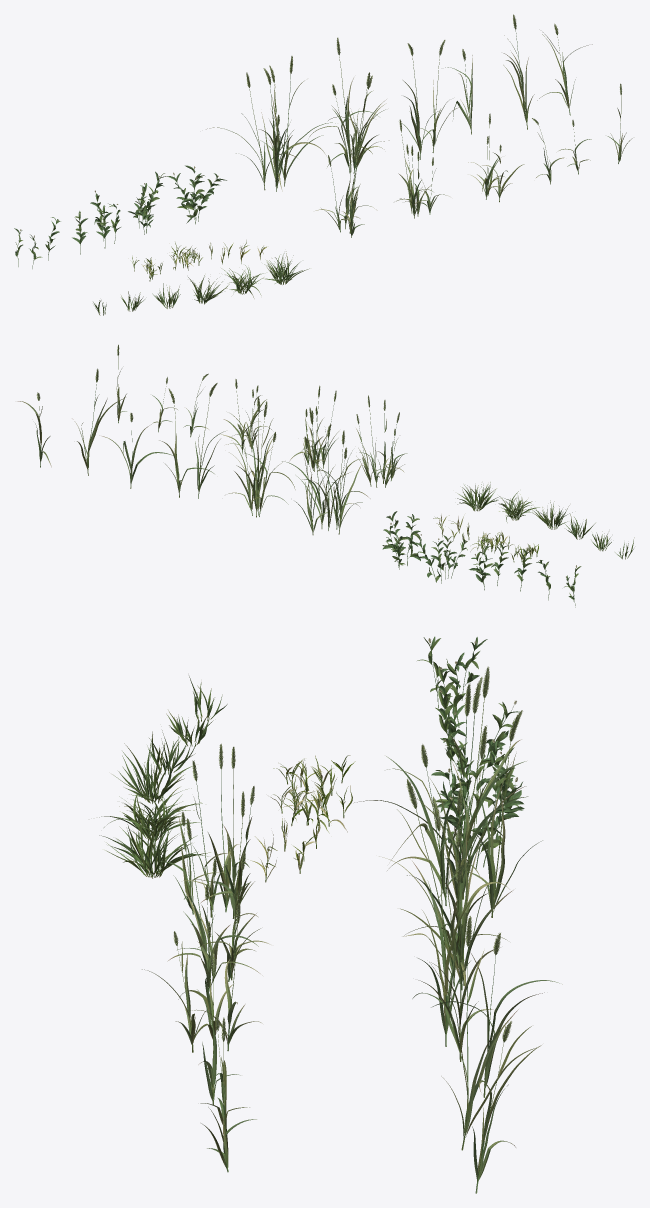
The model's file is Grasses_weeds.FBX.
The picture shows the model from 3 angles, top to bottom: view 1: azimuth 30°, elevation 25°; view 2: azimuth 150°, elevation 25°; view 3: azimuth 270°, elevation 25°; orthographic projection. The views are drawn at different scales.
Visible parts, largest first — view 1: Tymothy_grass001, Tymothy_grass, Tymothy_grass003, Weed_grass_04, Tymothy_grass004, Tymothy_grass002, Weed_grass_02, Tymothy_grass005, Tymothy_grass007, Simple_grass_00, Weed_grass_01, Tymothy_grass006 (+2 smaller); view 2: Tymothy_grass001, Tymothy_grass, Tymothy_grass003, Tymothy_grass002, Tymothy_grass004, Weed_grass_02, Weed_grass_04, Tymothy_grass005, Simple_grass_00, Weed_grass_01, Tymothy_grass007, Simple_grass_01 (+2 smaller); view 3: Tymothy_grass001, Tymothy_grass, Tymothy_grass003, Tymothy_grass002, Tymothy_grass004, Tymothy_grass005, Simple_grass_00, Weed_grass_04, Weed_grass_02, Tymothy_grass007, Simple_grass_01, Tymothy_grass008 (+4 smaller).
Boxes of the visible parts, x1,y1,x2,y2 form: Tymothy_grass001: [206, 56, 335, 191]; Tymothy_grass: [309, 37, 389, 173]; Tymothy_grass003: [315, 133, 377, 237]; Weed_grass_04: [167, 165, 226, 224]; Tymothy_grass004: [396, 119, 449, 218]; Tymothy_grass002: [401, 40, 458, 159]; Weed_grass_02: [128, 171, 167, 234]; Tymothy_grass005: [468, 113, 524, 202]; Tymothy_grass007: [503, 14, 534, 129]; Simple_grass_00: [262, 251, 309, 284]; Weed_grass_01: [90, 190, 120, 248]; Tymothy_grass006: [445, 49, 472, 134]; Tymothy_grass001: [282, 407, 370, 535]; Tymothy_grass: [226, 396, 295, 517]; Tymothy_grass003: [356, 395, 407, 487]; Tymothy_grass002: [159, 383, 225, 498]; Tymothy_grass004: [289, 385, 338, 471]; Weed_grass_02: [413, 533, 467, 583]; Weed_grass_04: [382, 511, 420, 569]; Tymothy_grass005: [221, 379, 271, 453]; Simple_grass_00: [457, 482, 499, 511]; Weed_grass_01: [469, 542, 508, 590]; Tymothy_grass007: [72, 368, 125, 475]; Simple_grass_01: [498, 491, 542, 522]; Tymothy_grass001: [354, 666, 542, 917]; Tymothy_grass: [379, 725, 513, 999]; Tymothy_grass003: [155, 743, 254, 923]; Tymothy_grass002: [412, 796, 500, 1061]; Tymothy_grass004: [167, 791, 270, 991]; Tymothy_grass005: [142, 903, 262, 1052]; Simple_grass_00: [99, 807, 210, 878]; Weed_grass_04: [431, 768, 523, 869]; Weed_grass_02: [443, 730, 524, 826]; Tymothy_grass007: [429, 916, 536, 1150]; Simple_grass_01: [99, 787, 202, 840]; Tymothy_grass008: [472, 1021, 541, 1193].
Bounding box in the file's own units: 246 × 59.74 × 91.26.
Materials: 27 (27 with a texture image).
